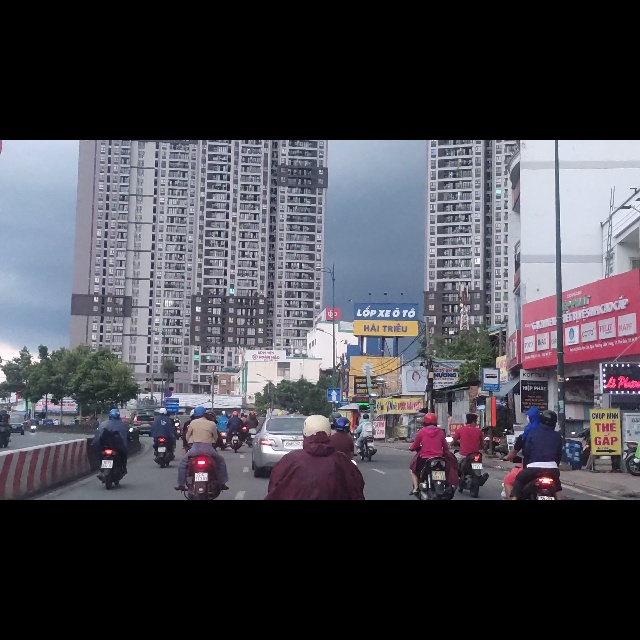bien_chi_dan: (482, 405, 500, 446), (327, 441, 341, 465)
